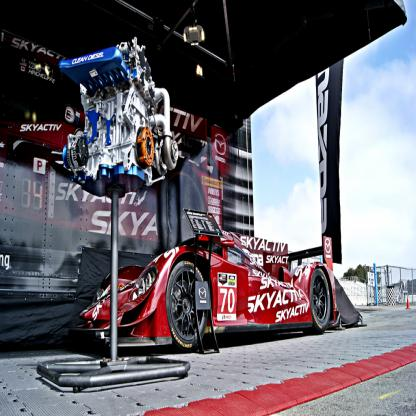Car: (68, 232, 341, 352)
